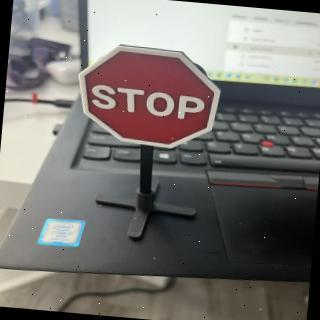sign_stop: (74, 42, 226, 157)
